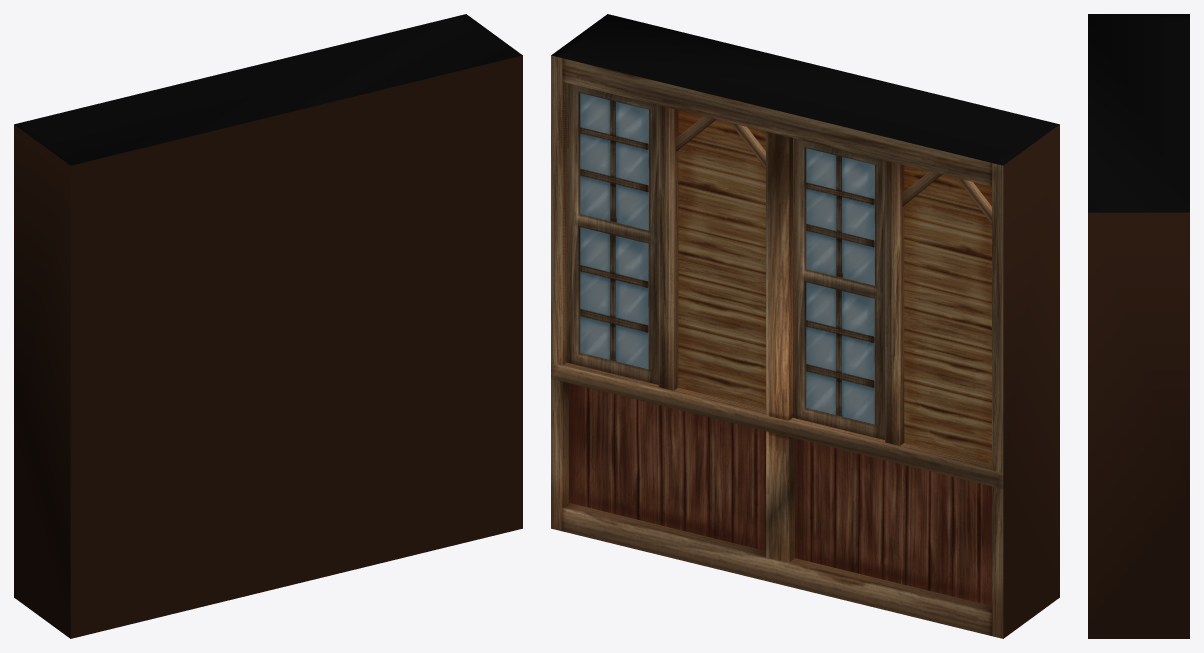
Rendered from a_SWGowall02B.glb.
The picture shows the model from 3 angles, left to right: view 1: azimuth 30°, elevation 25°; view 2: azimuth 150°, elevation 25°; view 3: azimuth 270°, elevation 25°; orthographic projection. The views are drawn at different scales.
Parts seen in each view (by area): view 1: a_SWGowall02B; view 2: a_SWGowall02B; view 3: a_SWGowall02B.
Part boxes in pixels (x1=…): a_SWGowall02B: x1=14, y1=14, x2=522, y2=638; a_SWGowall02B: x1=551, y1=14, x2=1059, y2=638; a_SWGowall02B: x1=1088, y1=14, x2=1189, y2=638.
Size of the model in its own units: 3 by 3 by 0.6502.
Materials: 3 (3 with a texture image).
